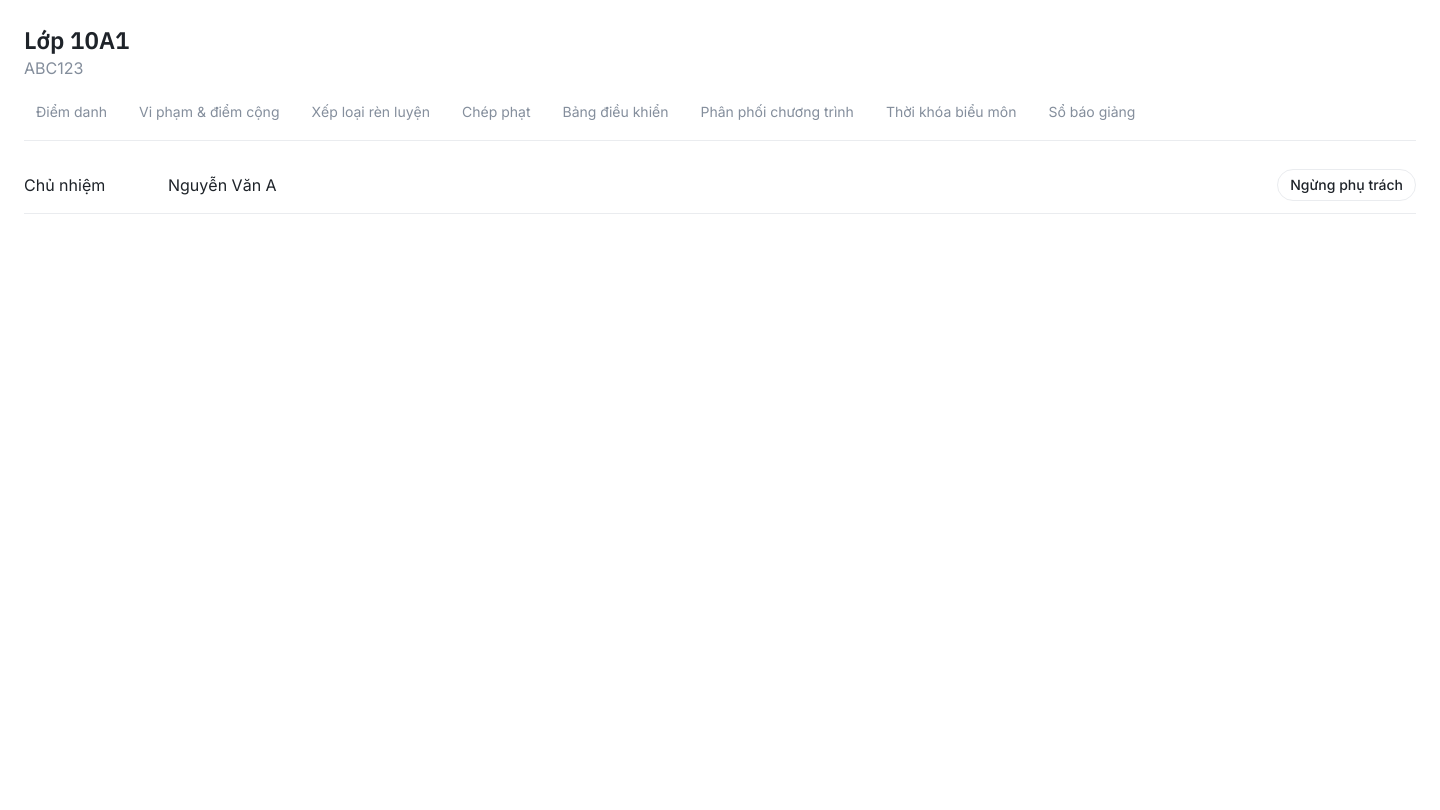
Test case: ngừng phụ trách thất bại hiện đúng error.data.message, KHÔNG đóng dialog
Click the button "Ngừng phụ trách": (1347, 185) [1277, 169, 1416, 201]
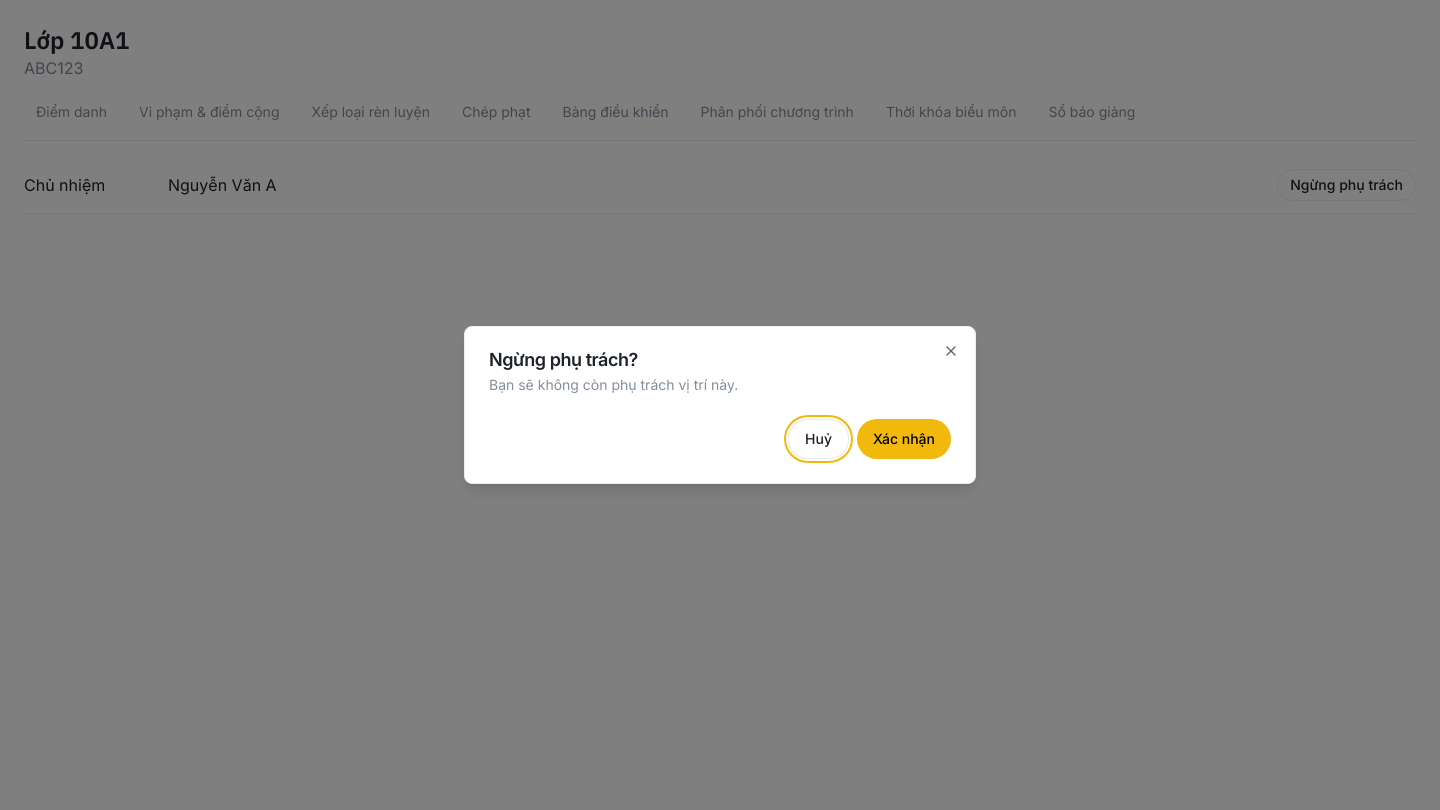
Click the button "Xác nhận": (904, 439) [857, 419, 951, 459]
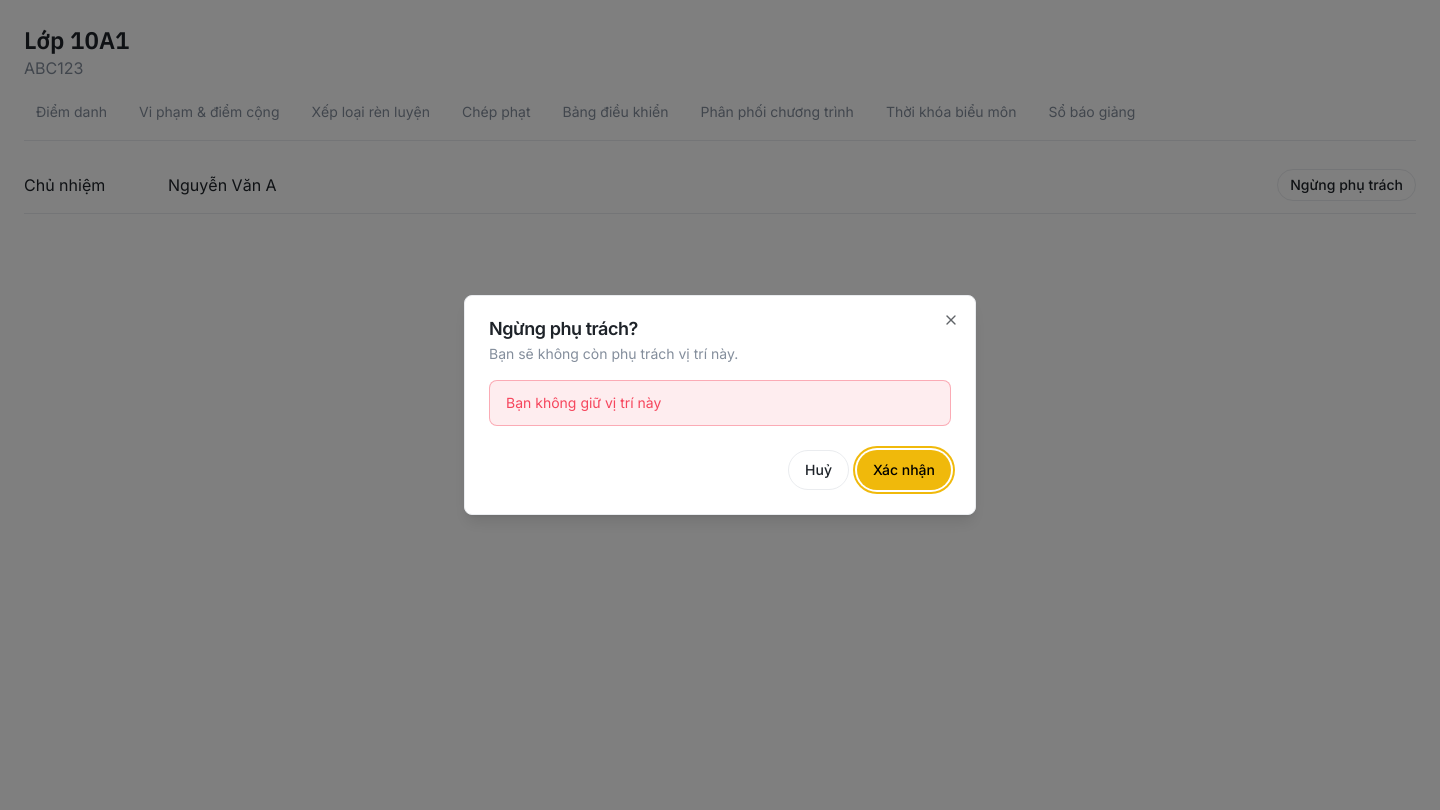
Expected: the dialog is shown, [464, 295, 976, 515]
Expected: the text "Bạn không giữ vị trí này" is shown, [506, 394, 661, 411]
